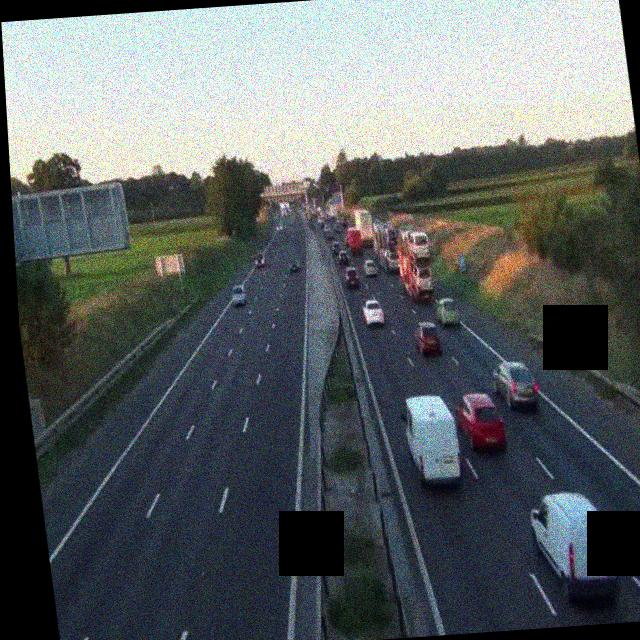car: (527, 490, 621, 606), (401, 394, 462, 487), (454, 391, 507, 452), (490, 360, 539, 409), (413, 320, 442, 355), (434, 296, 459, 326), (361, 299, 385, 326), (229, 282, 249, 306), (343, 266, 361, 288), (364, 256, 379, 275), (286, 257, 300, 273), (331, 240, 343, 258), (254, 252, 266, 268), (323, 225, 333, 238), (275, 221, 282, 231)
truck: (394, 238, 435, 302), (349, 206, 377, 254), (376, 222, 404, 270)
